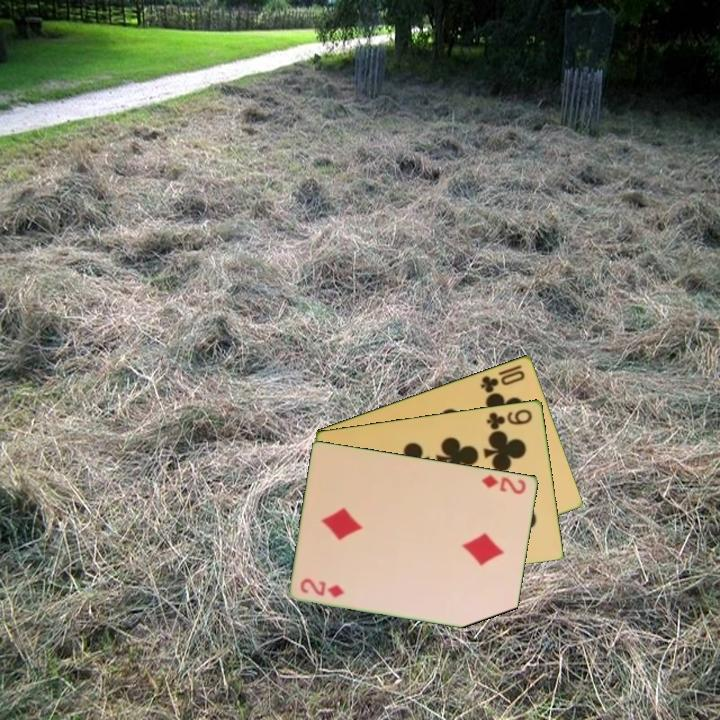10c: (477, 366, 528, 396)
2d: (478, 471, 529, 497), (297, 575, 348, 600)
9c: (483, 405, 535, 432)
